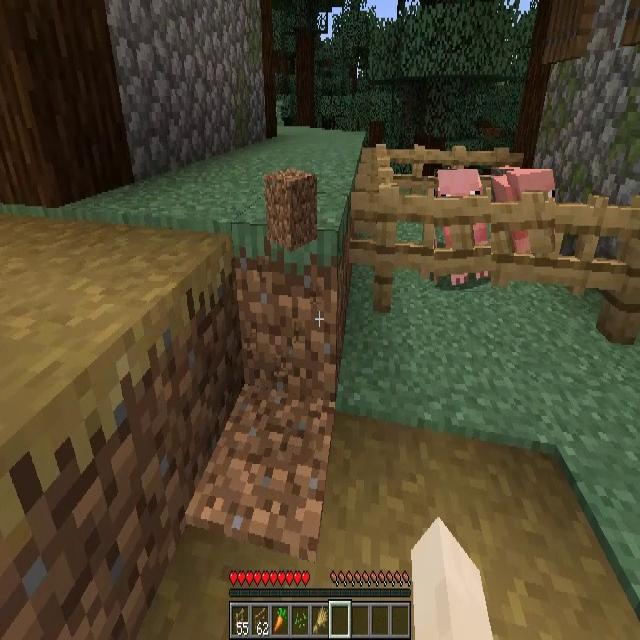pig: (434, 170, 491, 292), (491, 169, 555, 253)
